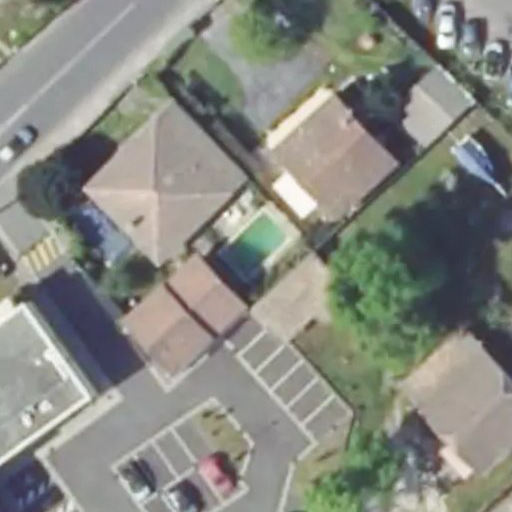pool: (226, 209, 286, 276)
